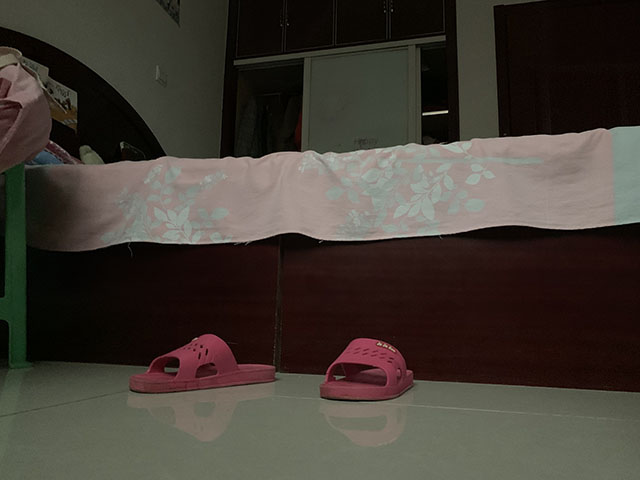bed: (1, 123, 640, 394)
slippers: (127, 332, 277, 393), (318, 336, 416, 403)
